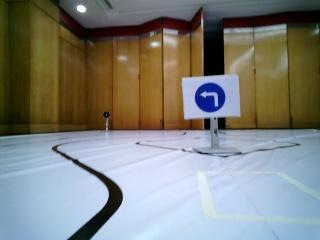left: (185, 77, 236, 116)
